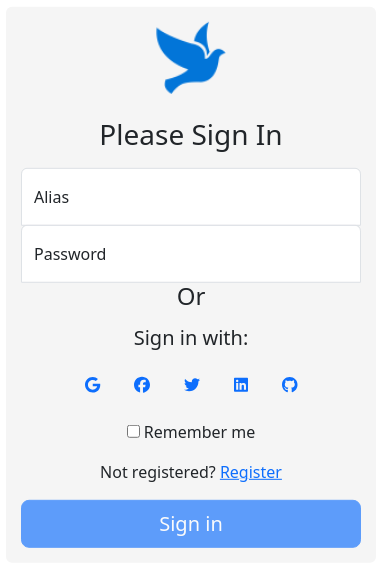
Login Component › disables the sign-in button if either field is cleared
The image size is (383, 570).
In the field labelled "Alias": (191, 196) [21,167,361,225], type "a"
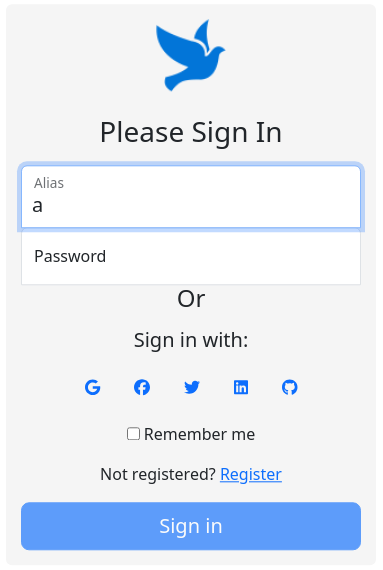
In the password field labelled "Password": (191, 256) [21,227,361,285], type "b"
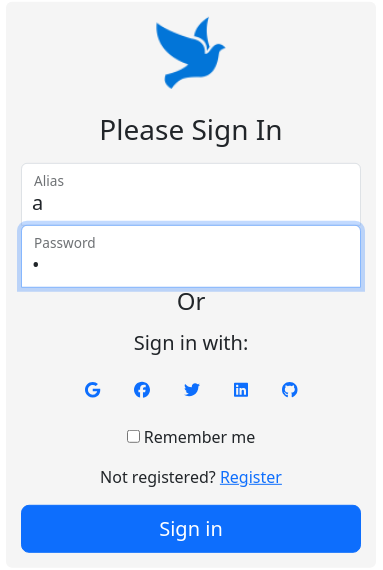
Check: the button "Sign in" is enabled, box [21,505,361,553]
Clear the field labelled "Alias": (191, 194) [21,162,361,225]
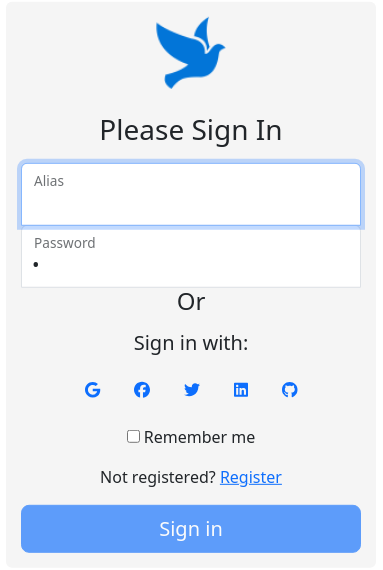
Check: the button "Sign in" is disabled, box [21,505,361,553]
In the field labelled "Alias": (191, 194) [21,162,361,225], type "1"
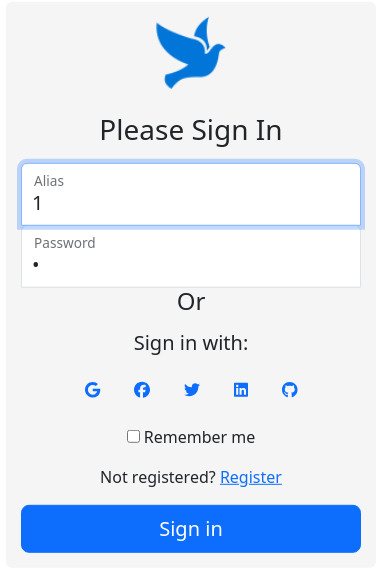
Check: the button "Sign in" is enabled, box [21,505,361,553]
Clear the password field labelled "Password": (191, 256) [21,224,361,287]
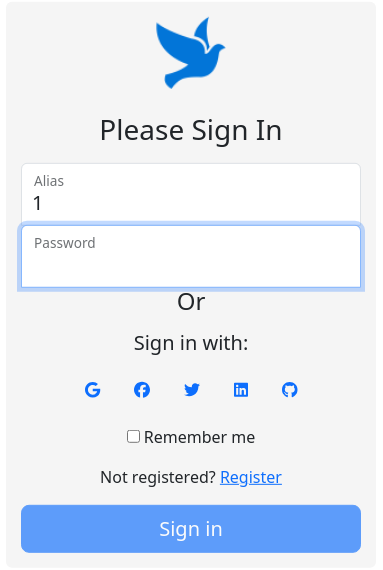
Check: the button "Sign in" is disabled, box [21,505,361,553]
